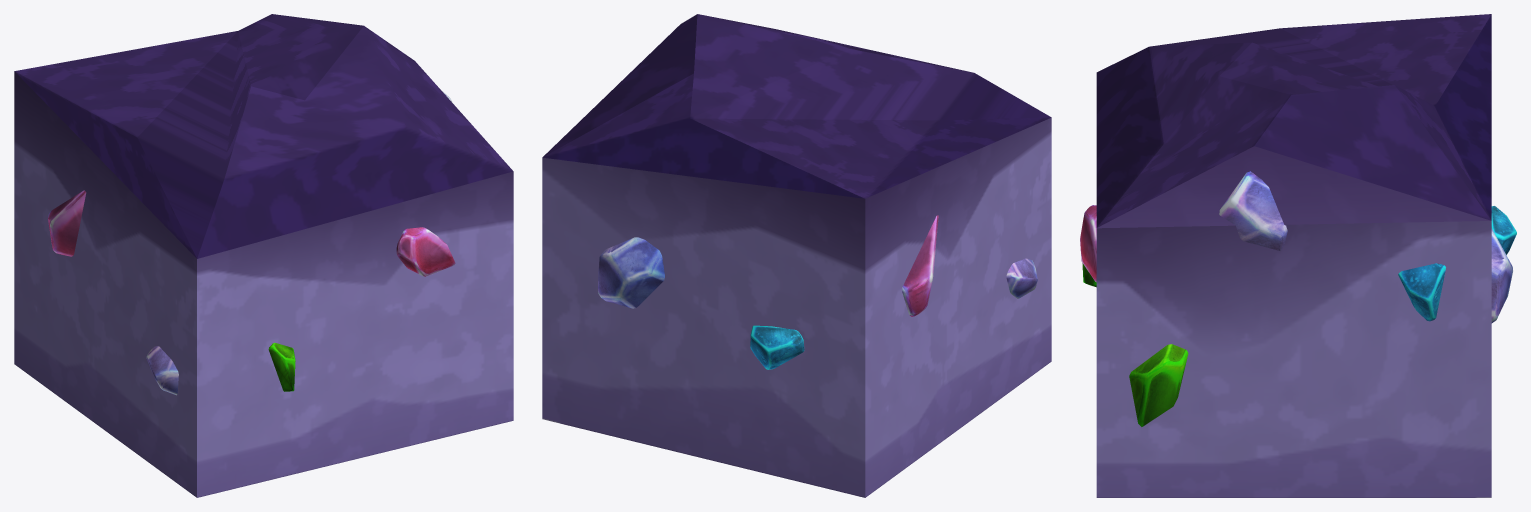
The model's file is Rock_03_005.fbx.
3 views of the same model, side by side, from view 1: azimuth 30°, elevation 25°; view 2: azimuth 150°, elevation 25°; view 3: azimuth 270°, elevation 25° (orthographic). The views are drawn at different scales.
Visible parts, largest first — view 1: Rock_03_005, GemStone301, GemStone300, GemStone201, GemStone4001; view 2: Rock_03_005, GemStone200, GemStone300, GemStone100, GemStone201; view 3: Rock_03_005, GemStone202, GemStone400, GemStone101, GemStone200, GemStone301, GemStone100.
Boxes of the visible parts, box(x1,y1,x2,y2) form: Rock_03_005: box(14, 14, 513, 497); GemStone301: box(396, 227, 455, 276); GemStone300: box(48, 190, 86, 256); GemStone201: box(146, 346, 178, 395); GemStone4001: box(268, 342, 295, 391); Rock_03_005: box(542, 14, 1051, 497); GemStone200: box(598, 237, 664, 308); GemStone300: box(902, 215, 938, 316); GemStone100: box(750, 325, 804, 369); GemStone201: box(1006, 258, 1037, 298); Rock_03_005: box(1096, 14, 1491, 497); GemStone202: box(1219, 171, 1287, 250); GemStone400: box(1129, 344, 1188, 426); GemStone101: box(1398, 263, 1445, 321); GemStone200: box(1491, 228, 1512, 323); GemStone301: box(1080, 205, 1096, 282); GemStone100: box(1491, 206, 1516, 254).
Bounding box in the file's own units: 221 × 207 × 221.
5 materials, 5 textured.
